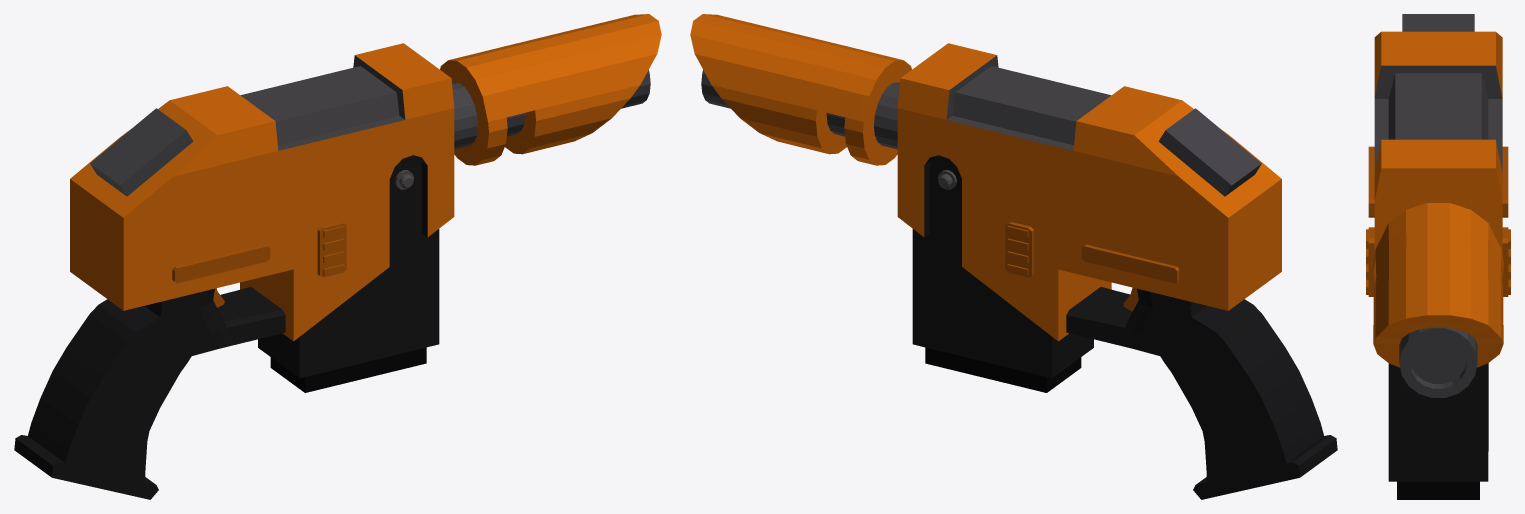
File: Accatran_MG_Variant_Heavy_Laspistol_Orange.fbx
3 views of the same model, side by side, from view 1: azimuth 30°, elevation 25°; view 2: azimuth 150°, elevation 25°; view 3: azimuth 270°, elevation 25° (orthographic). The views are drawn at different scales.
Visible parts, largest first — view 1: Accatran_MG_Variant_Heavy_Laspistol_Orange; view 2: Accatran_MG_Variant_Heavy_Laspistol_Orange; view 3: Accatran_MG_Variant_Heavy_Laspistol_Orange.
Boxes of the visible parts, x1,y1,x2,y2 form: Accatran_MG_Variant_Heavy_Laspistol_Orange: [14, 14, 661, 499]; Accatran_MG_Variant_Heavy_Laspistol_Orange: [690, 14, 1337, 499]; Accatran_MG_Variant_Heavy_Laspistol_Orange: [1366, 14, 1510, 499].
Bounding box in the file's own units: 116 × 63.78 × 19.58.
